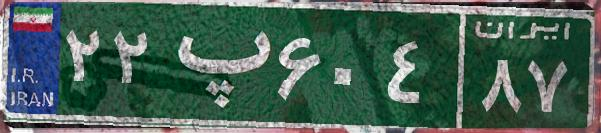0: (330, 28, 385, 110)
2: (57, 26, 110, 107), (110, 28, 158, 105)
4: (385, 28, 445, 110)
6: (273, 28, 330, 110)
7: (525, 38, 570, 115)
8: (475, 38, 525, 113)
پ: (158, 15, 273, 115)
